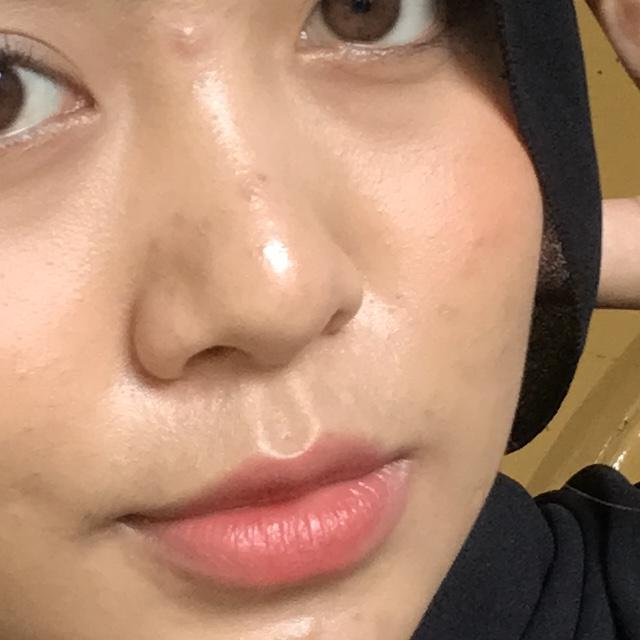mendengar: (390, 0, 640, 435)
